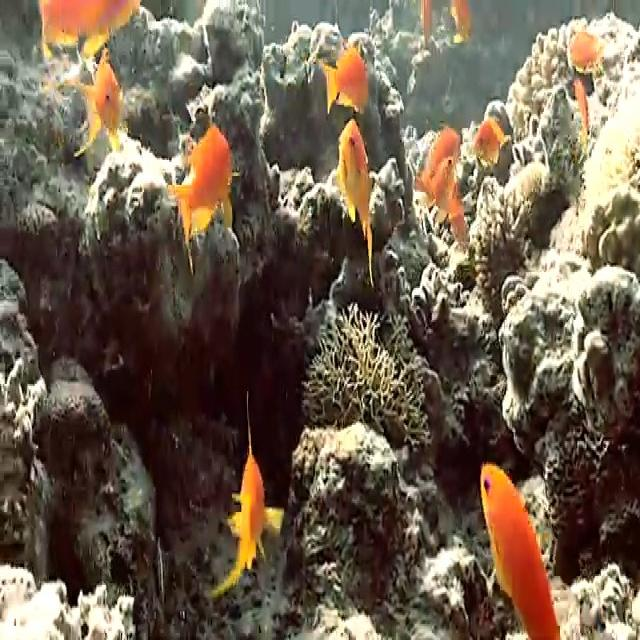Sea Goldie: (481, 462, 559, 640), (221, 401, 274, 588), (172, 124, 232, 256), (338, 119, 372, 268), (78, 59, 122, 150), (322, 50, 368, 117), (425, 154, 455, 224), (567, 31, 603, 79), (476, 123, 506, 163)
